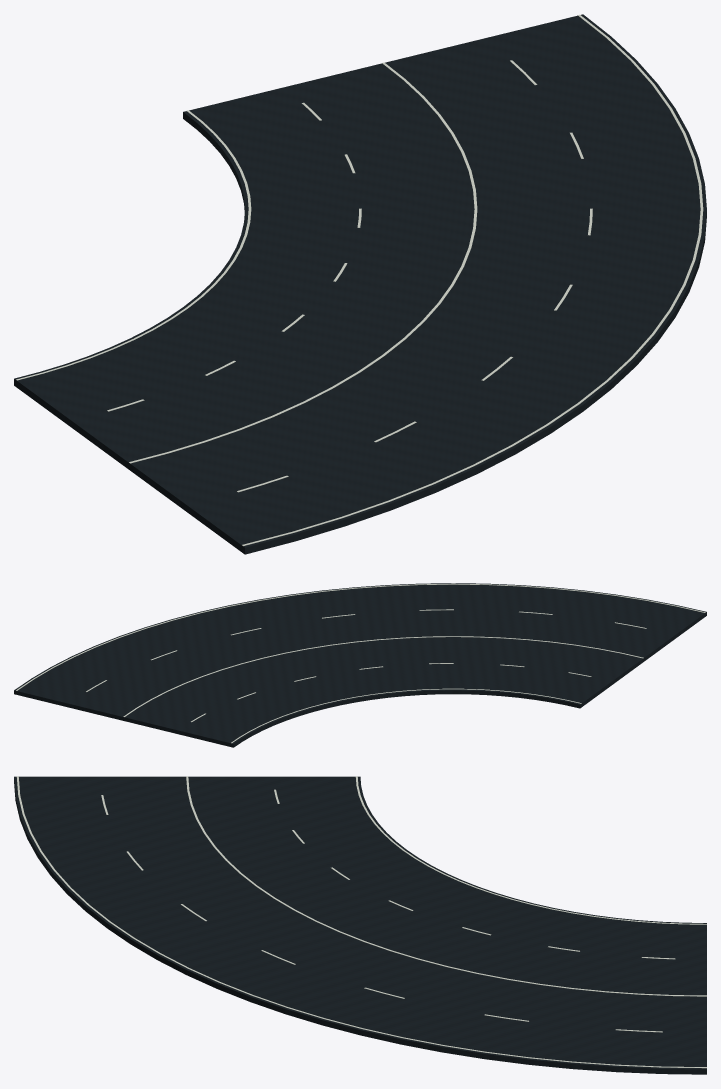
File: Transit_Road_4L_Curve90_R18.glb
The picture shows the model from 3 angles, top to bottom: view 1: azimuth 30°, elevation 25°; view 2: azimuth 150°, elevation 25°; view 3: azimuth 270°, elevation 25°; orthographic projection. The views are drawn at different scales.
Visible parts, largest first — view 1: Transit_Road_4L_Curve90_R18_Surface, Transit_Road_4L_Curve90_R18_MarkEdge-1, Transit_Road_4L_Curve90_R18_MarkLane2, Transit_Road_4L_Curve90_R18_MarkEdge+1; view 2: Transit_Road_4L_Curve90_R18_Surface, Transit_Road_4L_Curve90_R18_MarkEdge-1, Transit_Road_4L_Curve90_R18_MarkLane2, Transit_Road_4L_Curve90_R18_MarkEdge+1, Transit_Road_4L_Curve90_R18_MarkLane1; view 3: Transit_Road_4L_Curve90_R18_Surface, Transit_Road_4L_Curve90_R18_MarkEdge-1, Transit_Road_4L_Curve90_R18_MarkLane2, Transit_Road_4L_Curve90_R18_MarkEdge+1, Transit_Road_4L_Curve90_R18_MarkLane1.
Part boxes in pixels (bbox=[...]): Transit_Road_4L_Curve90_R18_Surface: bbox=[14, 14, 706, 554]; Transit_Road_4L_Curve90_R18_MarkEdge-1: bbox=[242, 14, 703, 546]; Transit_Road_4L_Curve90_R18_MarkLane2: bbox=[129, 62, 477, 463]; Transit_Road_4L_Curve90_R18_MarkEdge+1: bbox=[16, 110, 251, 380]; Transit_Road_4L_Curve90_R18_Surface: bbox=[14, 583, 706, 747]; Transit_Road_4L_Curve90_R18_MarkEdge-1: bbox=[16, 583, 705, 690]; Transit_Road_4L_Curve90_R18_MarkLane2: bbox=[123, 636, 643, 717]; Transit_Road_4L_Curve90_R18_MarkEdge+1: bbox=[231, 688, 581, 743]; Transit_Road_4L_Curve90_R18_MarkLane1: bbox=[86, 609, 646, 691]; Transit_Road_4L_Curve90_R18_Surface: bbox=[14, 776, 706, 1074]; Transit_Road_4L_Curve90_R18_MarkEdge-1: bbox=[16, 776, 706, 1068]; Transit_Road_4L_Curve90_R18_MarkLane2: bbox=[186, 776, 706, 996]; Transit_Road_4L_Curve90_R18_MarkEdge+1: bbox=[355, 776, 706, 924]; Transit_Road_4L_Curve90_R18_MarkLane1: bbox=[101, 795, 662, 1032].
Bounding box in the file's own units: 24 × 0.212 × 24.
2 materials, 1 textured.
